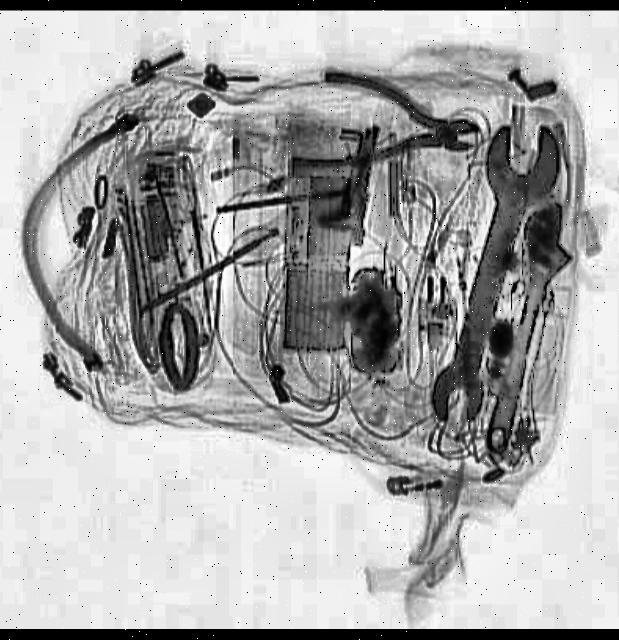Pliers: (287, 72, 480, 186)
Wrench: (410, 112, 568, 435), (458, 195, 583, 462)
